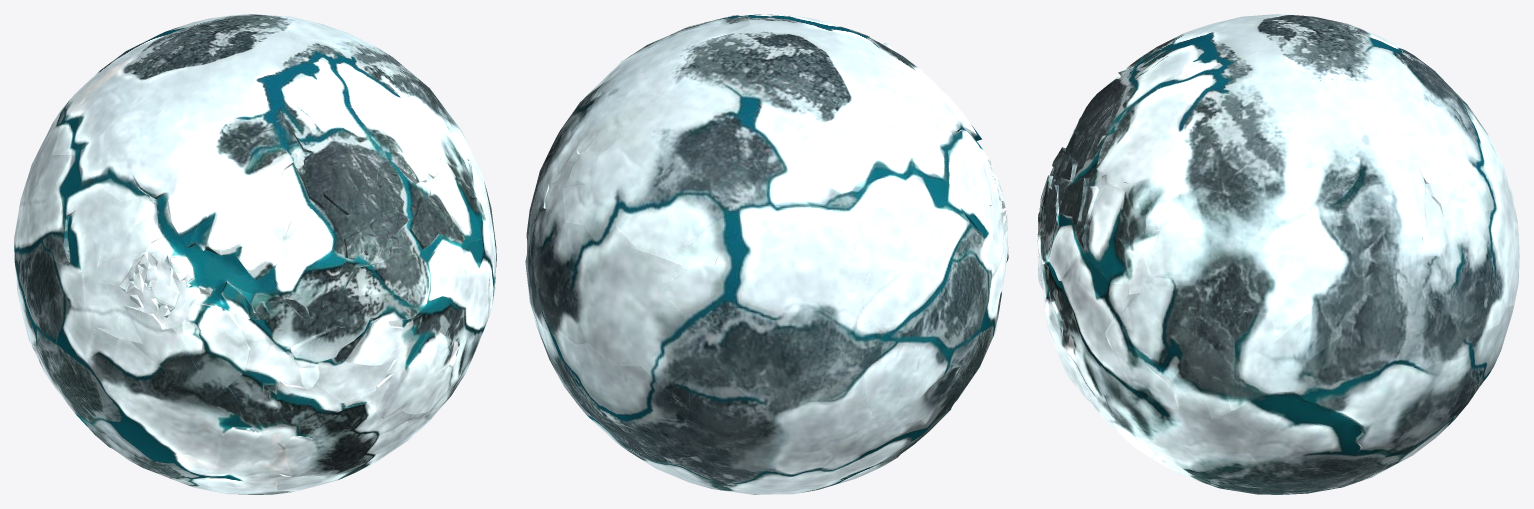
Rendered from planet-ice.glb.
3 renders of one model, left to right at view 1: azimuth 30°, elevation 25°; view 2: azimuth 150°, elevation 25°; view 3: azimuth 270°, elevation 25°, orthographic.
Size of the model in its own units: 1.9 by 1.9 by 1.89.
1 material, 1 textured.
